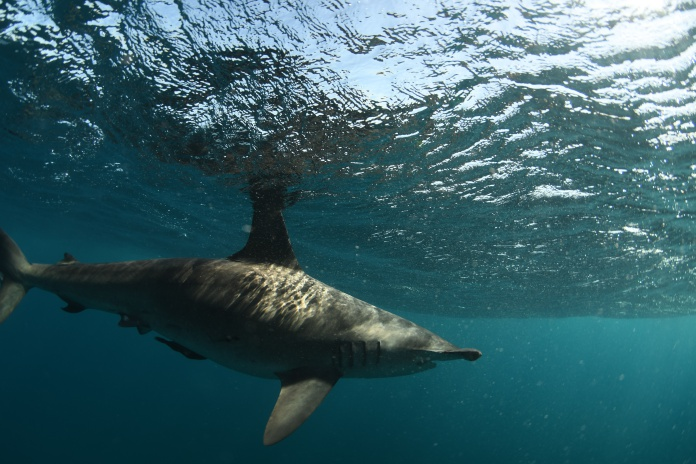Hammer: (1, 185, 568, 455)
